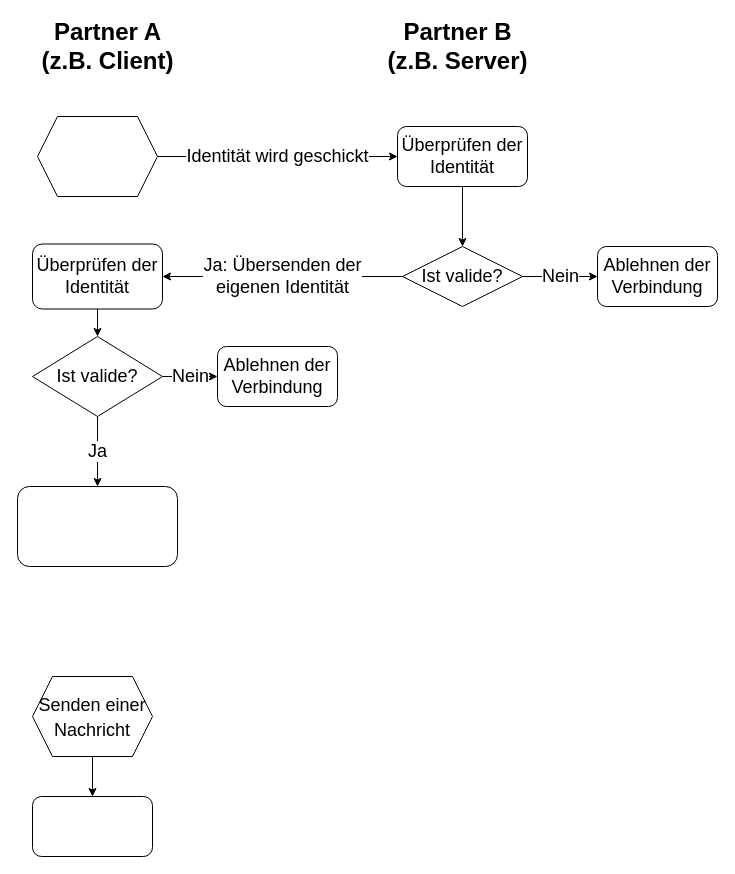
This 735x874 diagram has some shape labels left out. The centre of each missing label's shape, as x and y in pixels:
Gesicherte Verbindung aufgebaut: the point at 97,526
Verbindung hergestellt: the point at 97,156
Verschlüsselung mit RSA: the point at 92,826
